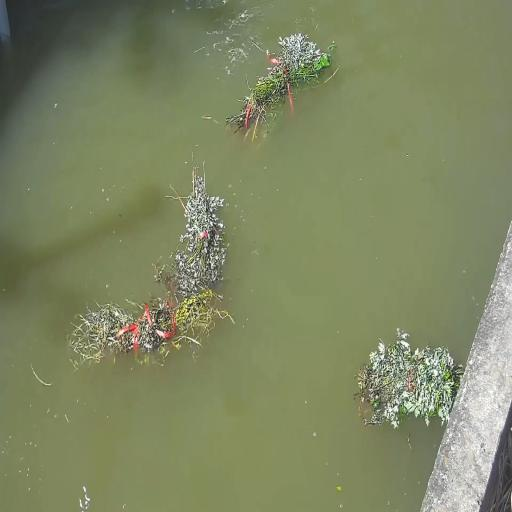twig: (69, 288, 230, 365), (225, 30, 330, 140), (355, 327, 463, 429), (166, 156, 228, 288)
